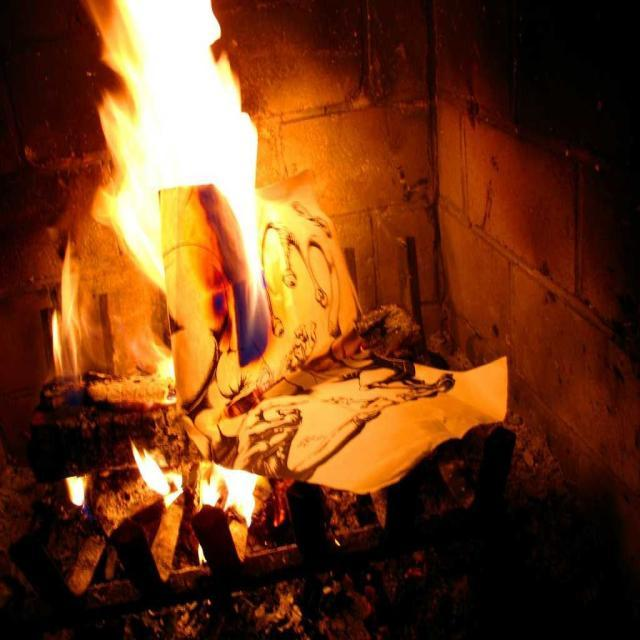Fire: (101, 2, 238, 165), (110, 182, 172, 246)
